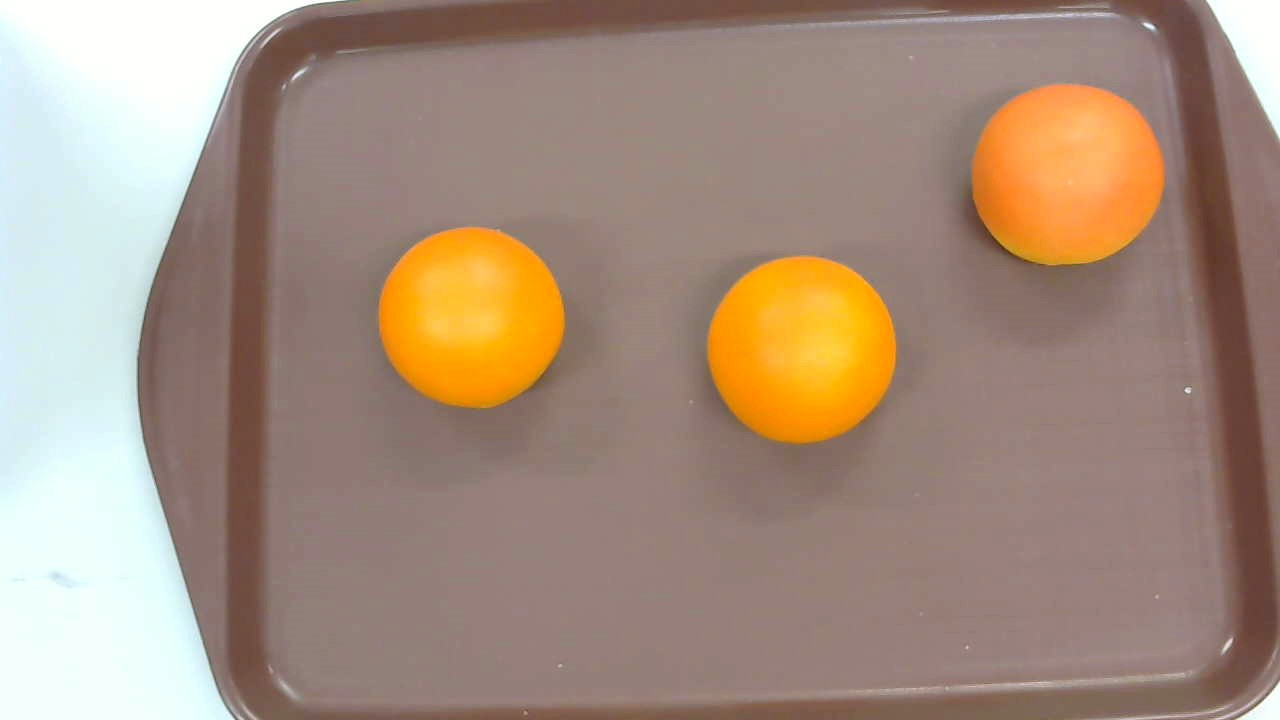bun: (706, 255, 897, 446), (971, 84, 1166, 266), (378, 224, 566, 408)
